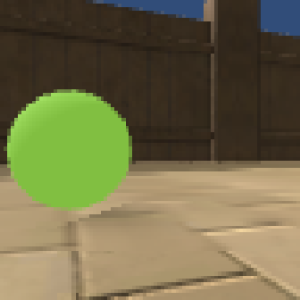goodGoal: (5, 88, 135, 216)
